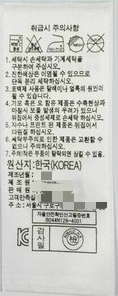KR_no_dry_clean: (86, 32, 105, 54)
KR_wash_warm_30_neutral: (8, 32, 24, 54)
